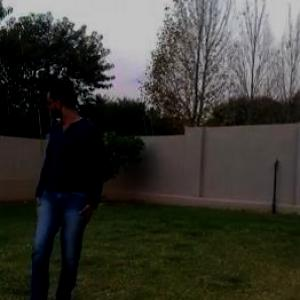follow: (36, 75, 95, 299)
